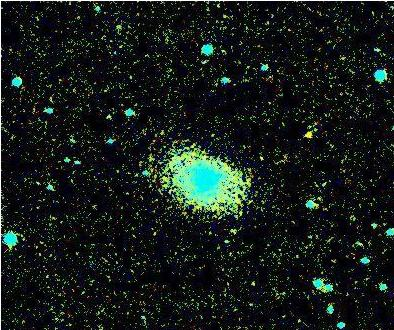star: (293, 119, 323, 149)
